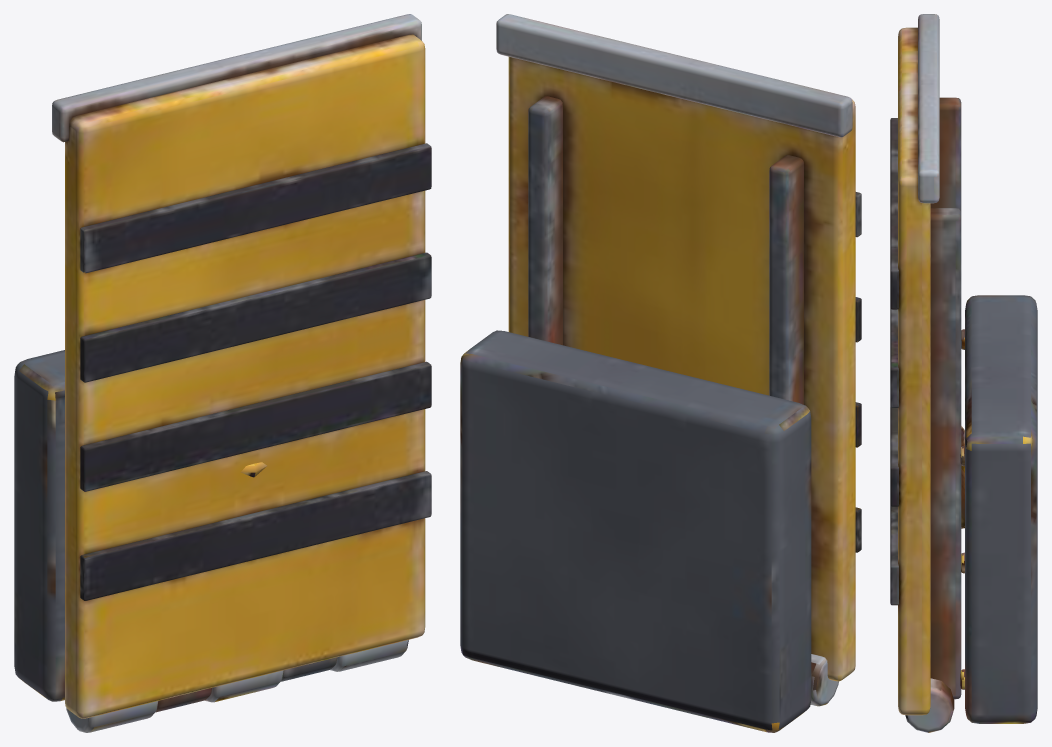
The model's file is flipper.glb.
3 views of the same model, side by side, from view 1: azimuth 30°, elevation 25°; view 2: azimuth 150°, elevation 25°; view 3: azimuth 270°, elevation 25° (orthographic). The views are drawn at different scales.
Visible parts, largest first — view 1: arm, body; view 2: arm, body; view 3: arm, body.
Part boxes in pixels (x1,y1,x2,y2): arm: (52, 14, 431, 718); body: (14, 350, 408, 732); arm: (496, 14, 861, 681); body: (460, 330, 838, 732); arm: (890, 14, 961, 715); body: (905, 295, 1037, 732).
Size of the model in its own units: 0.52 by 0.87 by 0.203.
Materials: 1 (1 with a texture image).
